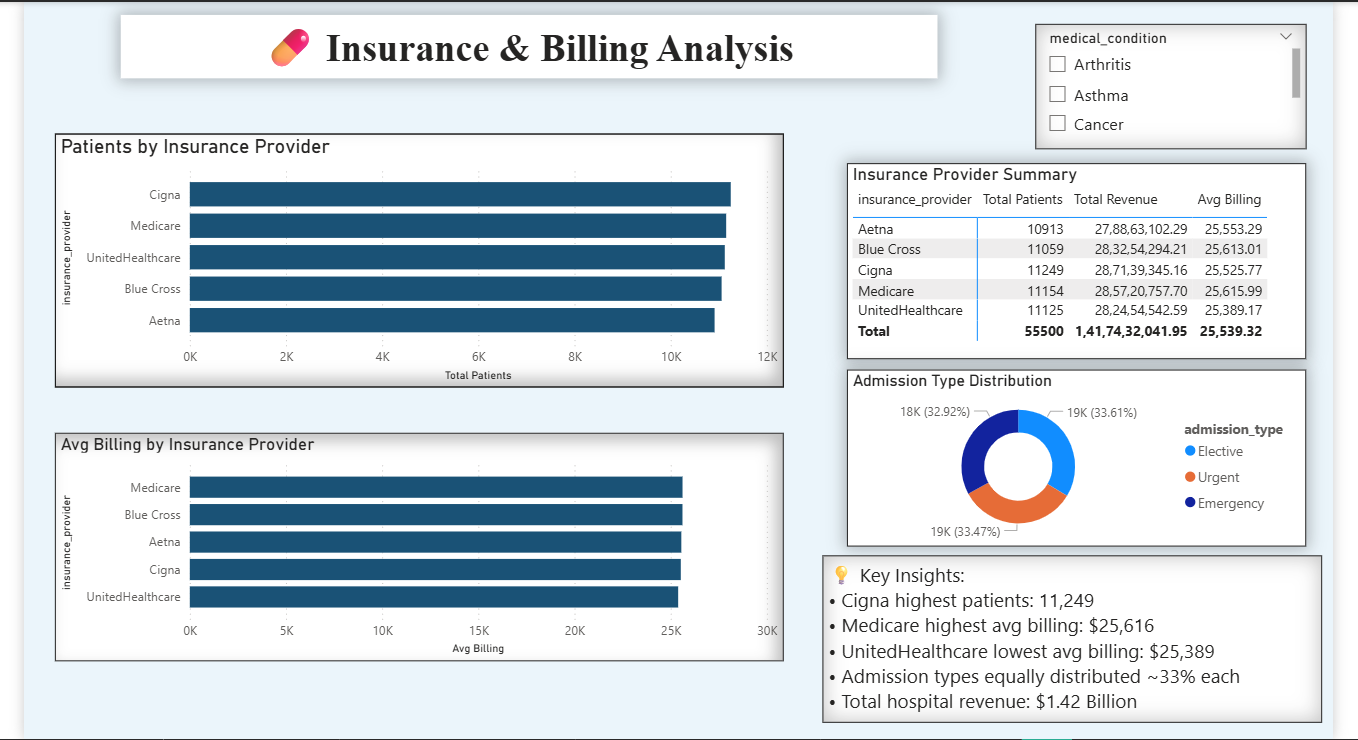

This screenshot's page, from the dashboard's own definition file:
{"tool":"powerbi","page":{"name":"Insurance & Billing Analysis","canvas":[1280,720],"ordinal":2},"visuals":[{"type":"clusteredBarChart","title":" Patients by Insurance Provider","fields":{"Category":["public patients.insurance_provider"],"Y":["public patients.Total Patients"]},"box":[30.3,128.6,712.5,248.4],"z":0},{"type":"clusteredBarChart","title":"Avg Billing by Insurance Provider","fields":{"Category":["public patients.insurance_provider"],"Y":["public patients.Avg Billing"]},"box":[30.3,421.2,712.5,223.2],"z":1},{"type":"pivotTable","title":"Insurance Provider Summary","fields":{"Rows":["public patients.insurance_provider"],"Values":["public patients.Total Patients","public patients.Total Revenue","public patients.Avg Billing"]},"box":[804.6,157.6,449,191.7],"z":2},{"type":"donutChart","title":"Admission Type Distribution","fields":{"Category":["public patients.admission_type"],"Y":["public patients.Total Patients"]},"box":[804.6,359.4,449,172.8],"z":3},{"type":"slicer","fields":{"Values":["public patients.medical_condition"]},"box":[988.7,21.4,264.8,122.3],"z":4},{"type":"textbox","box":[780.6,541,488.1,163.9],"z":5},{"type":"textbox","box":[94.6,12.6,798.3,61.8],"z":6}]}

Visuals, with their boxes on the page's 1280x720 design canvas (x1, y1, x2, y2). These are canvas units, not pixel positions in the 1358x740 screenshot, which may show the page scaled, cropped or inside an application window:
" Patients by Insurance Provider" clusteredBarChart: pyautogui.locateOnScreen(30, 129, 743, 377)
"Avg Billing by Insurance Provider" clusteredBarChart: pyautogui.locateOnScreen(30, 421, 743, 644)
"Insurance Provider Summary" pivotTable: pyautogui.locateOnScreen(805, 158, 1254, 349)
"Admission Type Distribution" donutChart: pyautogui.locateOnScreen(805, 359, 1254, 532)
slicer - public patients.medical_condition: pyautogui.locateOnScreen(989, 21, 1254, 144)
textbox: pyautogui.locateOnScreen(781, 541, 1269, 705)
textbox: pyautogui.locateOnScreen(95, 13, 893, 74)
